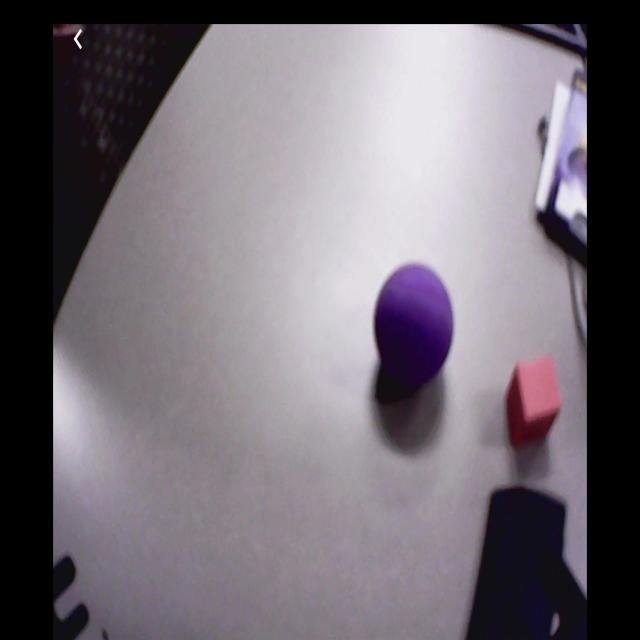ball: (375, 263, 453, 381)
